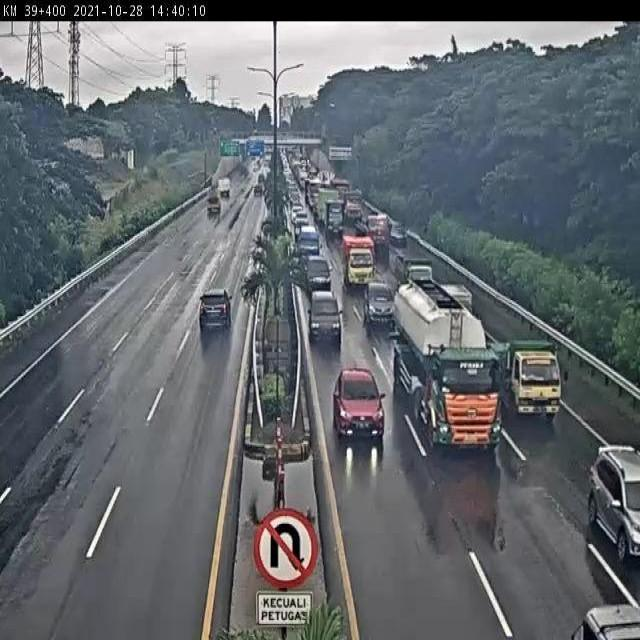car: (332, 371, 385, 441), (361, 280, 397, 329), (307, 288, 342, 337), (197, 290, 233, 330), (304, 253, 333, 292)
truck-m-: (491, 338, 563, 413), (389, 244, 432, 288), (342, 236, 375, 289)
truck-xl-: (392, 285, 501, 447)
